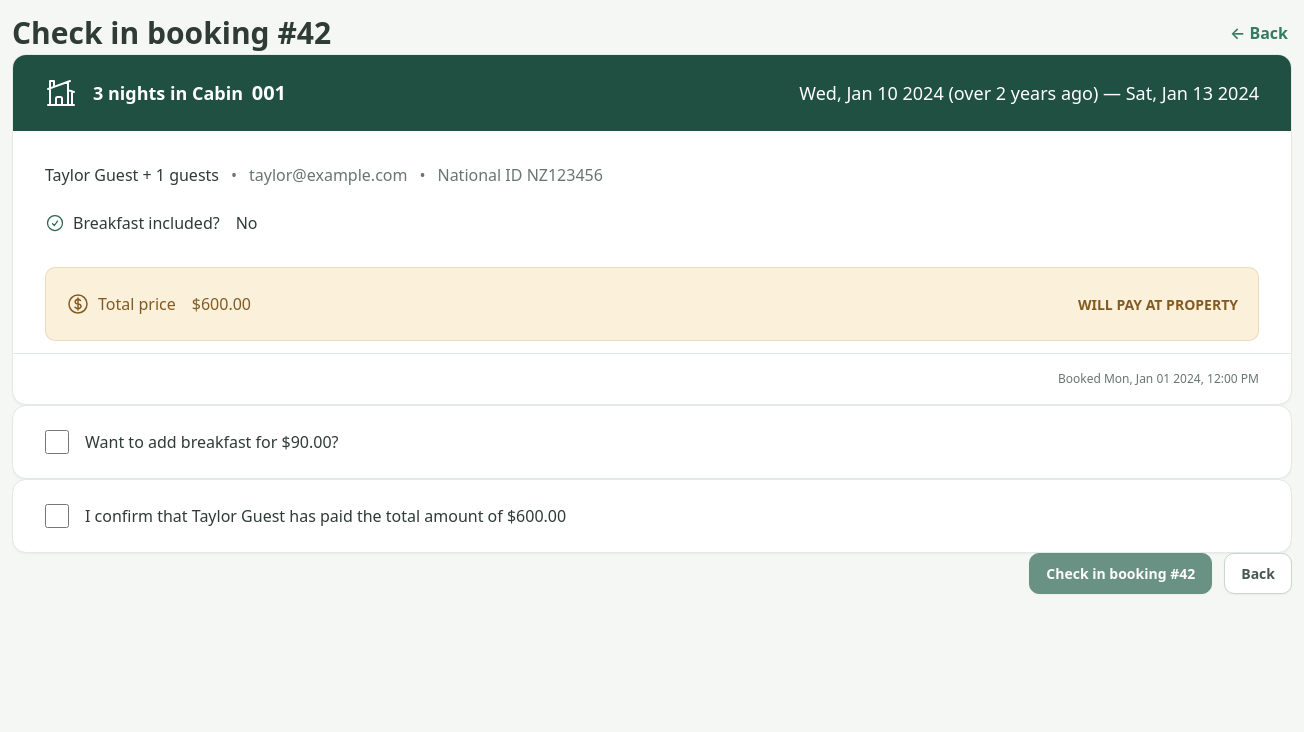
CheckinBooking › requires payment confirmation before an unpaid booking can be checked in
expect the button "Check in booking #42" is disabled: met, box [1029,553,1212,594]
Click the checkbox labelled "I confirm that".
click(57, 516)  # box [45,504,69,528]
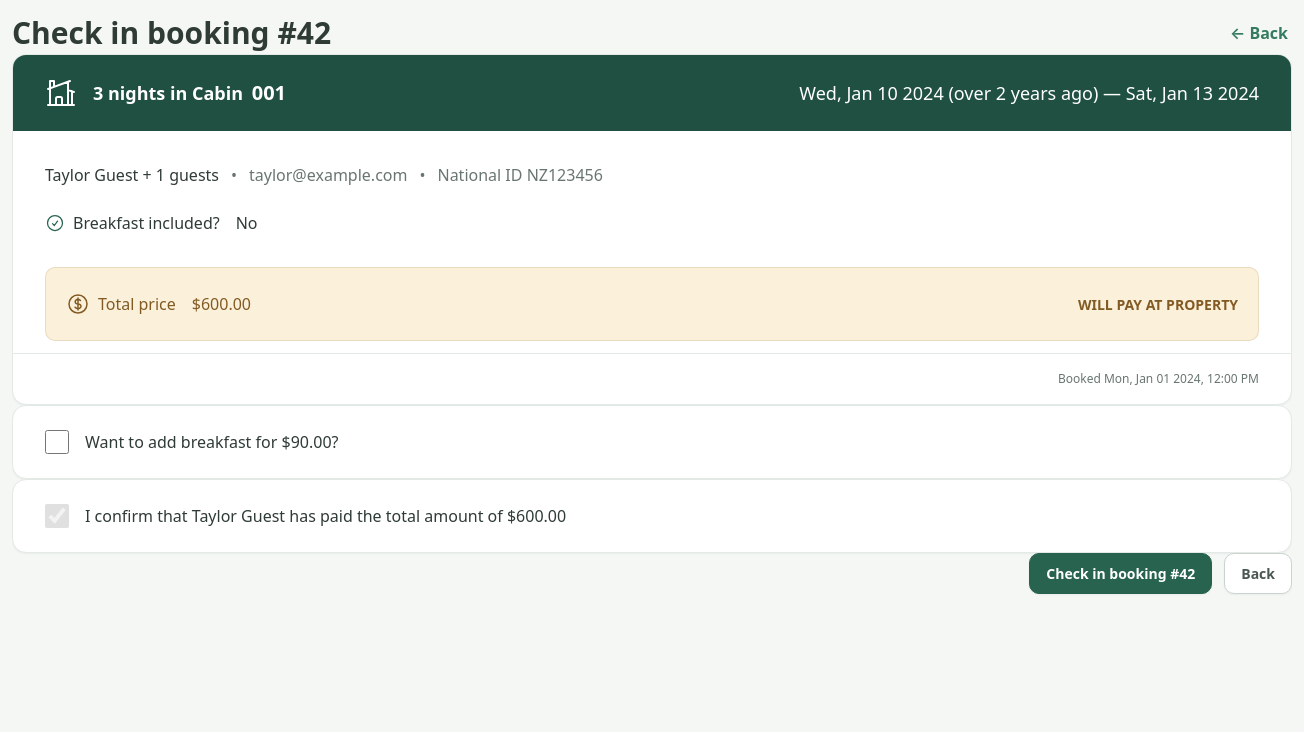
expect the button "Check in booking #42" is enabled: met, box [1029,553,1212,594]
